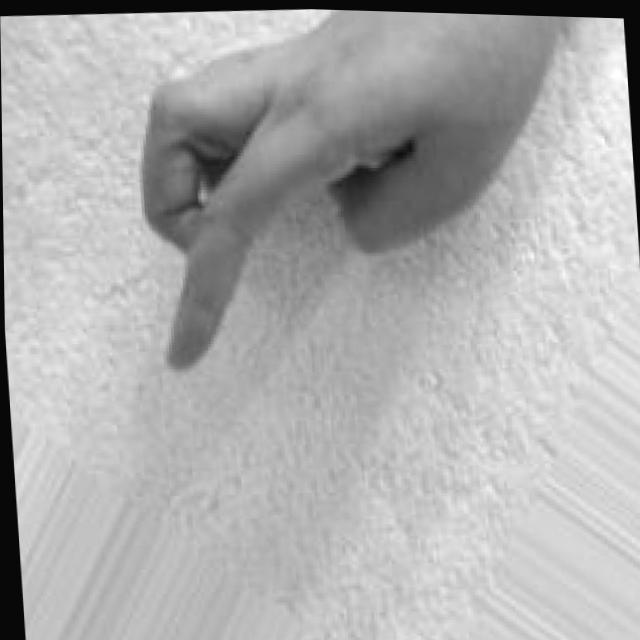P: (113, 3, 599, 390)
